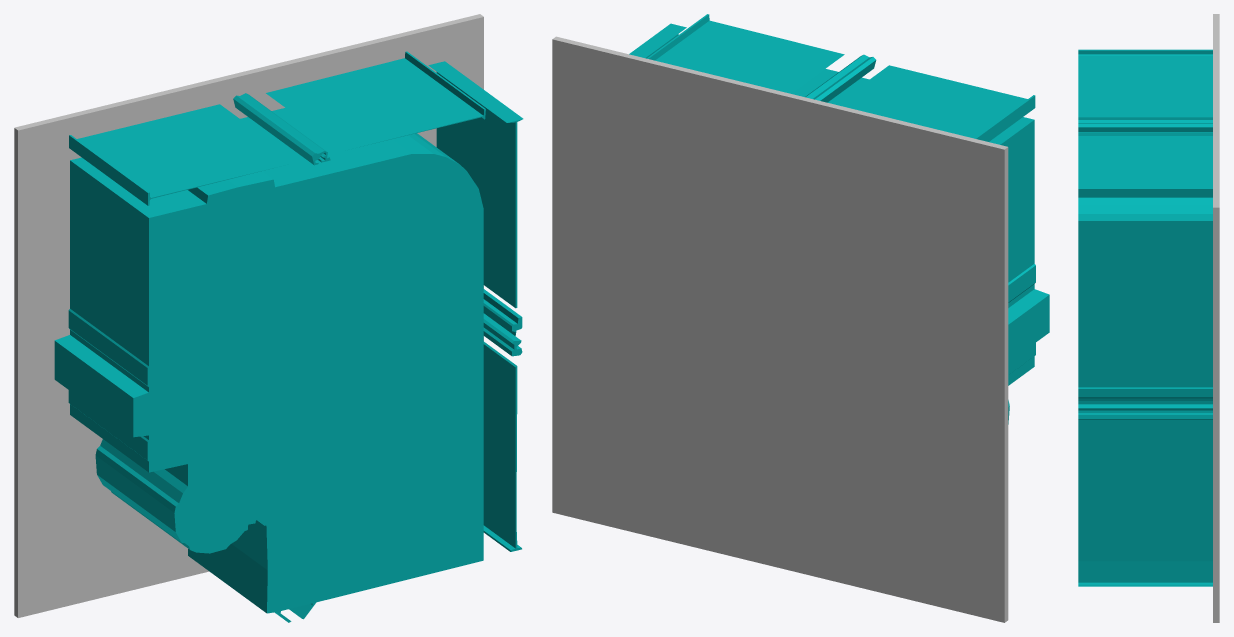
3 renders of one model, left to right at view 1: azimuth 30°, elevation 25°; view 2: azimuth 150°, elevation 25°; view 3: azimuth 270°, elevation 25°, orthographic. The views are drawn at different scales.
Parts seen in each view (by area): view 1: world; view 2: world; view 3: world.
Part boxes in pixels (x1,y1,x2,y2): world: (14, 14, 523, 622); world: (552, 14, 1049, 622); world: (1078, 14, 1219, 622).
Bounding box in the file's own units: 10.23 × 10.23 × 3.15.
